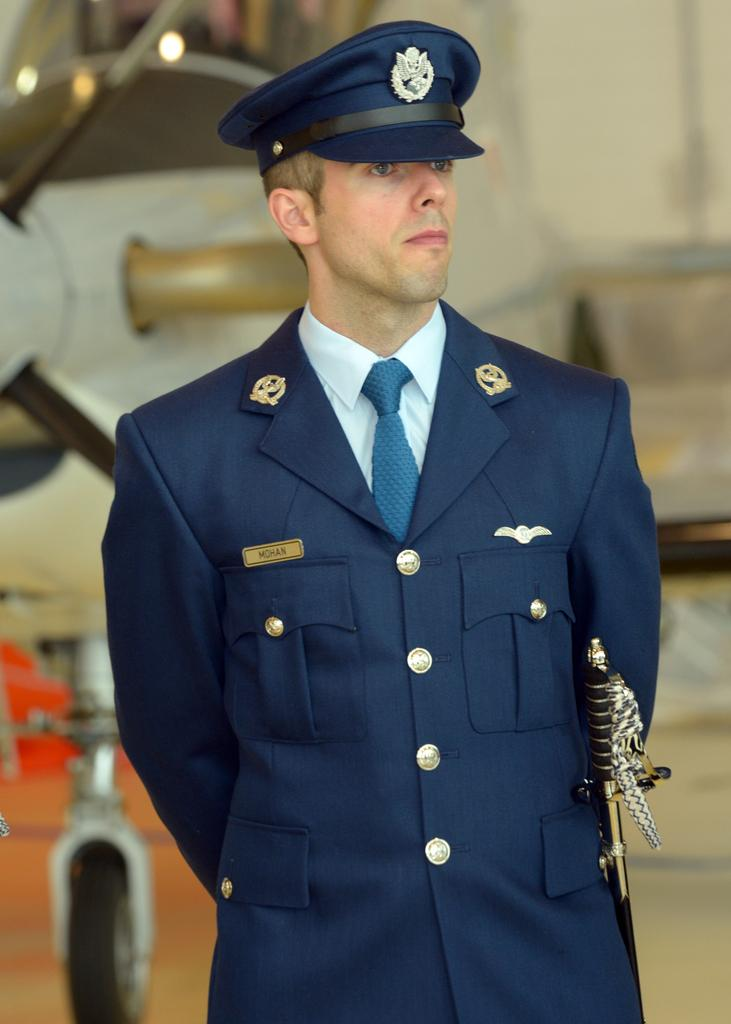Hat: (218, 20, 485, 164)
